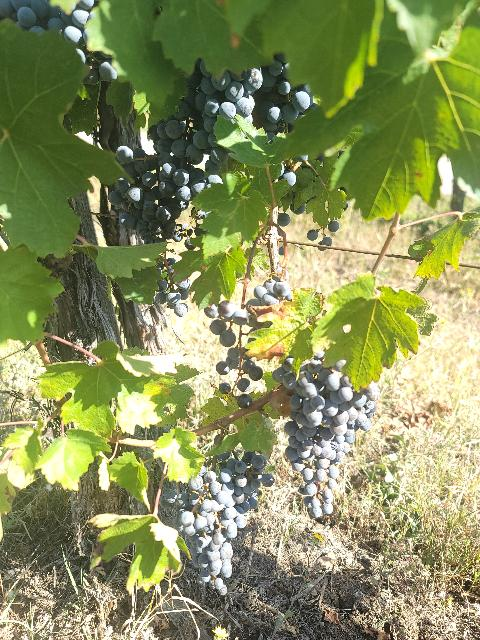grapes: (274, 351, 380, 519), (205, 280, 292, 409), (165, 465, 238, 595), (109, 145, 191, 244), (220, 451, 274, 511), (155, 258, 191, 316)
